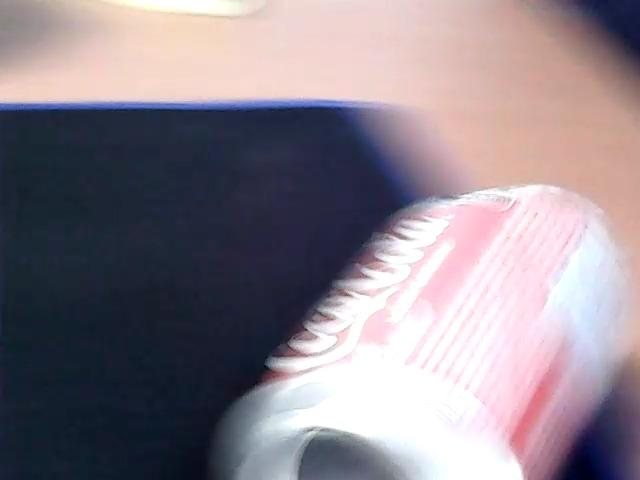coke: (266, 194, 603, 474)
